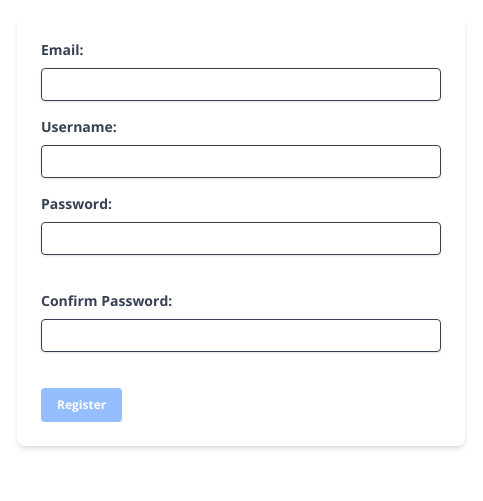
RegisterForm › handles generic API error
Type "generic@example.com" into the field labelled "Email:". click: {"x": 241, "y": 84}
box: [41, 68, 441, 101]
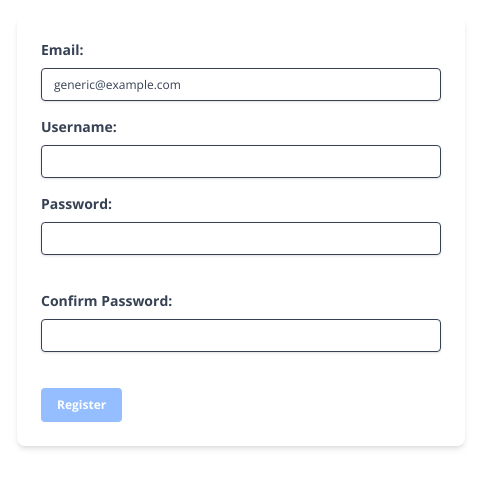
Type "genericuser" into the field labelled "Username:". click: {"x": 241, "y": 162}
box: [41, 145, 441, 178]
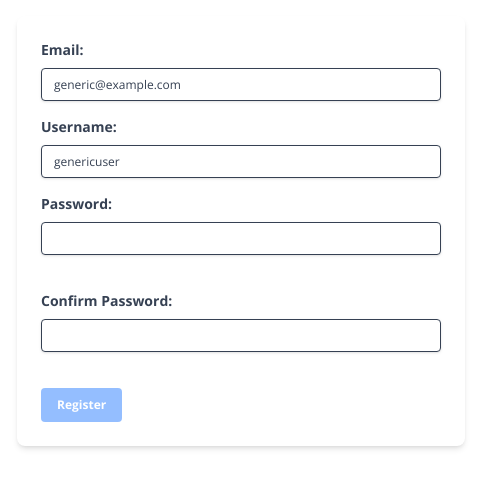
Type "StrongP@ss1!" into the password field labelled "Password:". click: {"x": 241, "y": 238}
box: [41, 222, 441, 255]
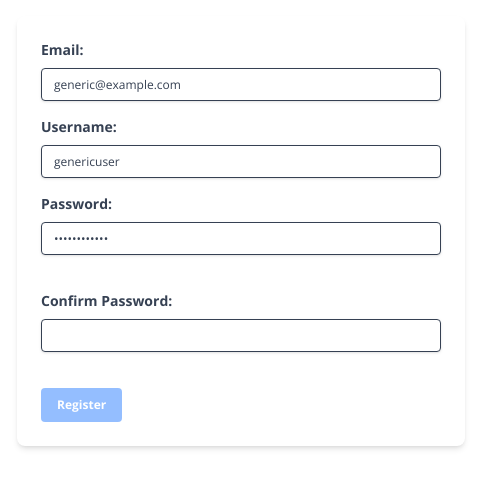
Type "StrongP@ss1!" into the password field with id "confirmPassword". click: {"x": 241, "y": 336}
box: [41, 319, 441, 352]
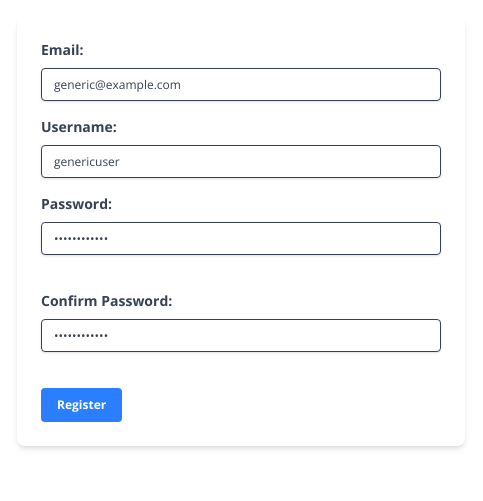
Submit the form
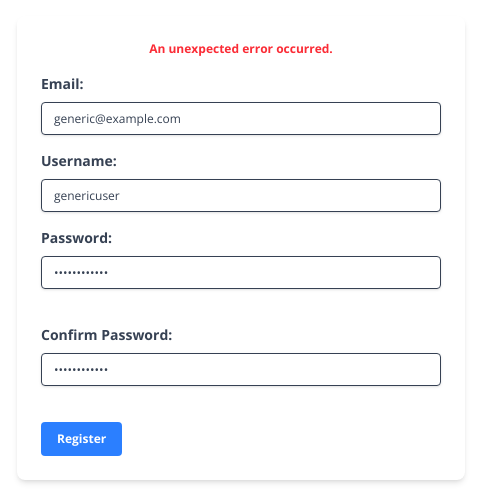
Expected: the text with class "error-message" reads "An unexpected error occurred.", [149, 40, 333, 57]
